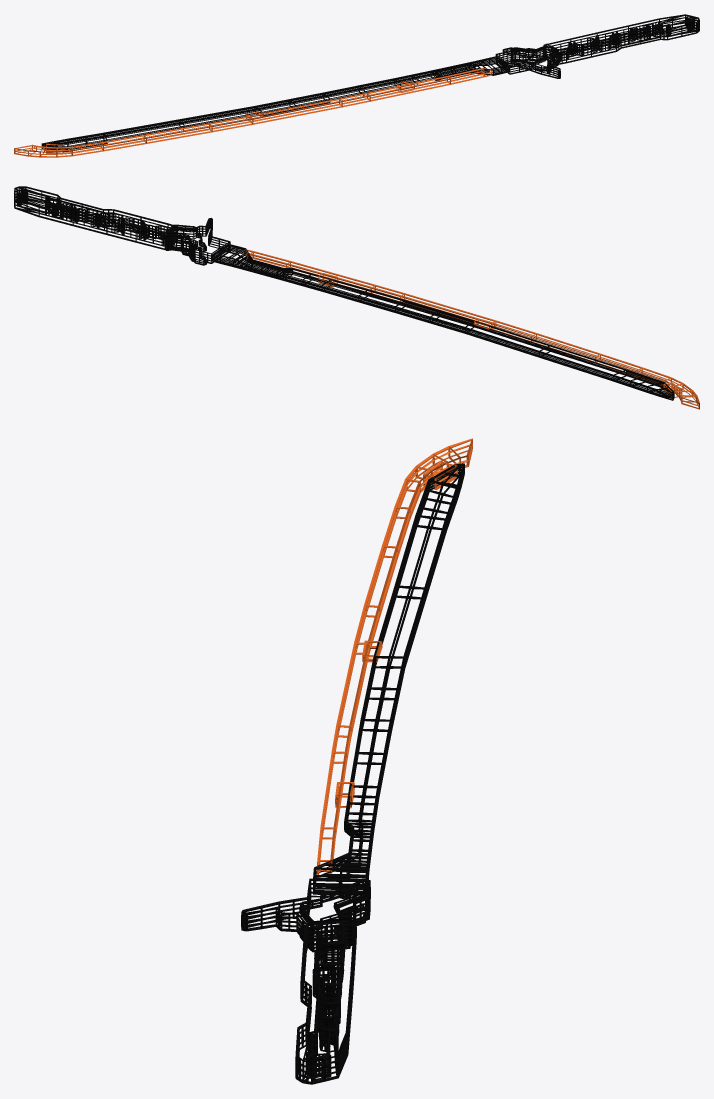
Rendered from 카타나2.fbx.
3 renders of one model, top to bottom at view 1: azimuth 30°, elevation 25°; view 2: azimuth 150°, elevation 25°; view 3: azimuth 270°, elevation 25°, orthographic. The views are drawn at different scales.
Parts seen in each view (by area): view 1: 카타나2; view 2: 카타나2; view 3: 카타나2.
Boxes of the visible parts, x1,y1,x2,y2 form: 카타나2: (14,14,699,157); 카타나2: (14,186,699,409); 카타나2: (241,438,472,1084).
Size of the model in its own units: 4677 by 109 by 728.
